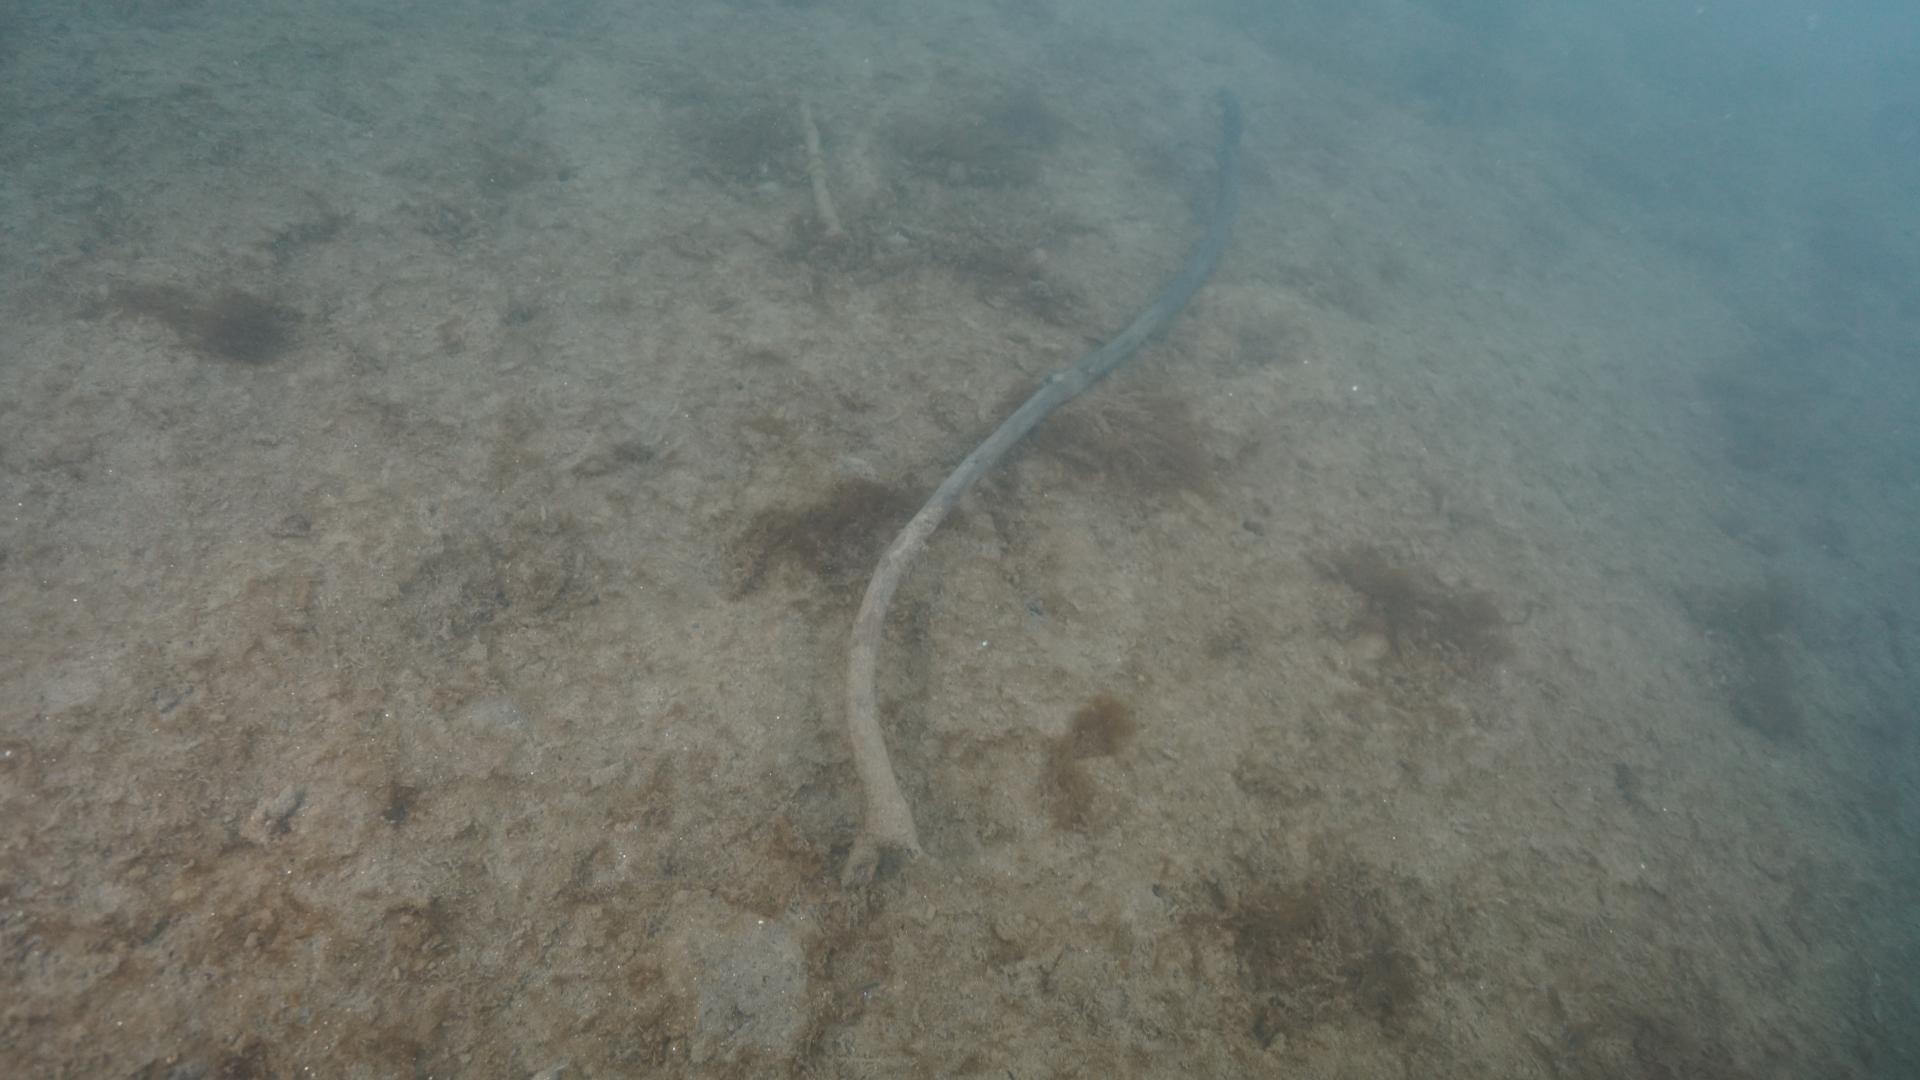wood: (840, 84, 1244, 926)
